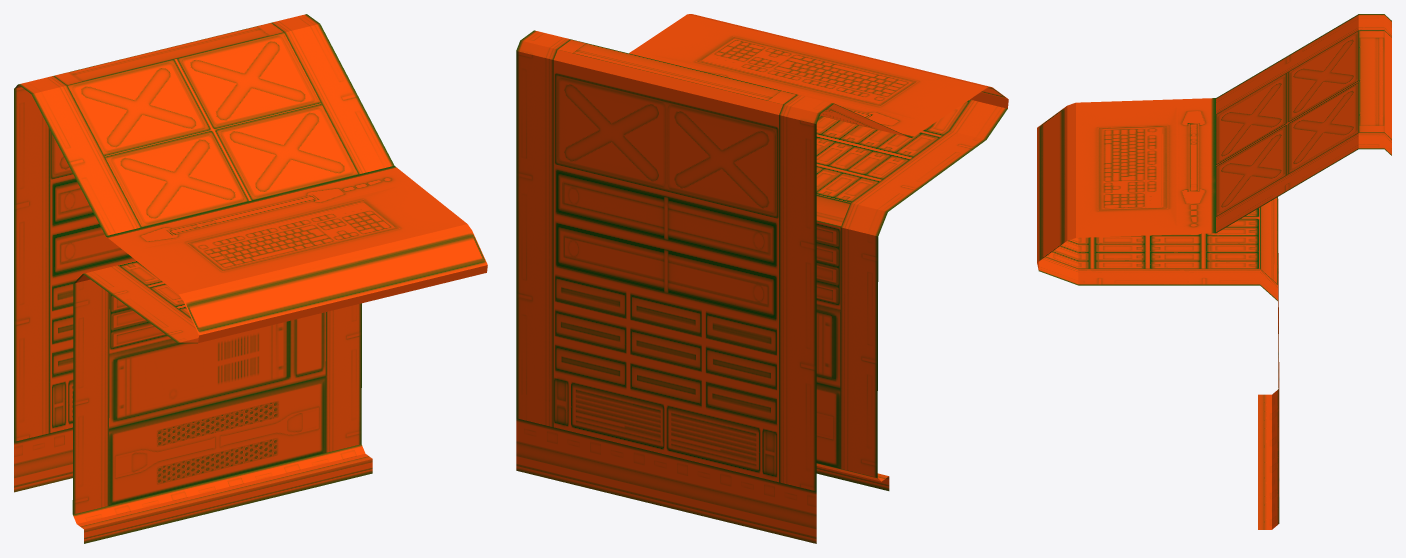
File: ConsoleDesk_02_SM_Low.fbx
3 renders of one model, left to right at view 1: azimuth 30°, elevation 25°; view 2: azimuth 150°, elevation 25°; view 3: azimuth 270°, elevation 25°, orthographic. The views are drawn at different scales.
Parts seen in each view (by area): view 1: consoleSmall; view 2: consoleSmall; view 3: consoleSmall.
Boxes of the visible parts, x1=… form: consoleSmall: x1=14, y1=14, x2=487, y2=543; consoleSmall: x1=516, y1=14, x2=1008, y2=543; consoleSmall: x1=1037, y1=14, x2=1391, y2=529.
Bounding box in the file's own units: 89.79 × 122 × 99.54.
Materials: 1 (1 with a texture image).
